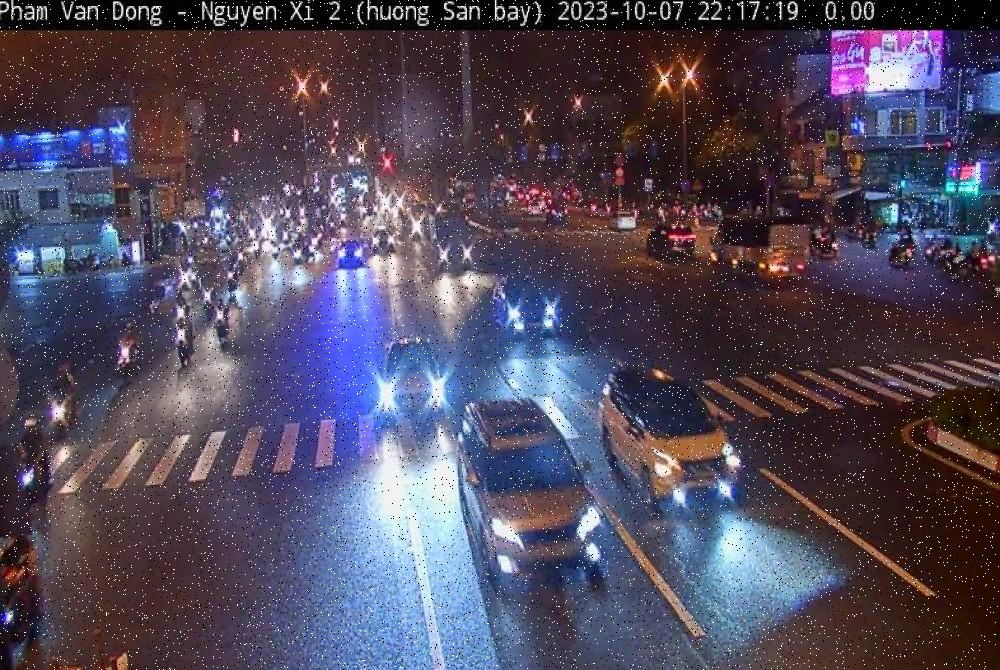car: (461, 395, 601, 589), (607, 365, 734, 506), (380, 335, 448, 429), (494, 281, 558, 331)
motorbike: (890, 239, 916, 267)
